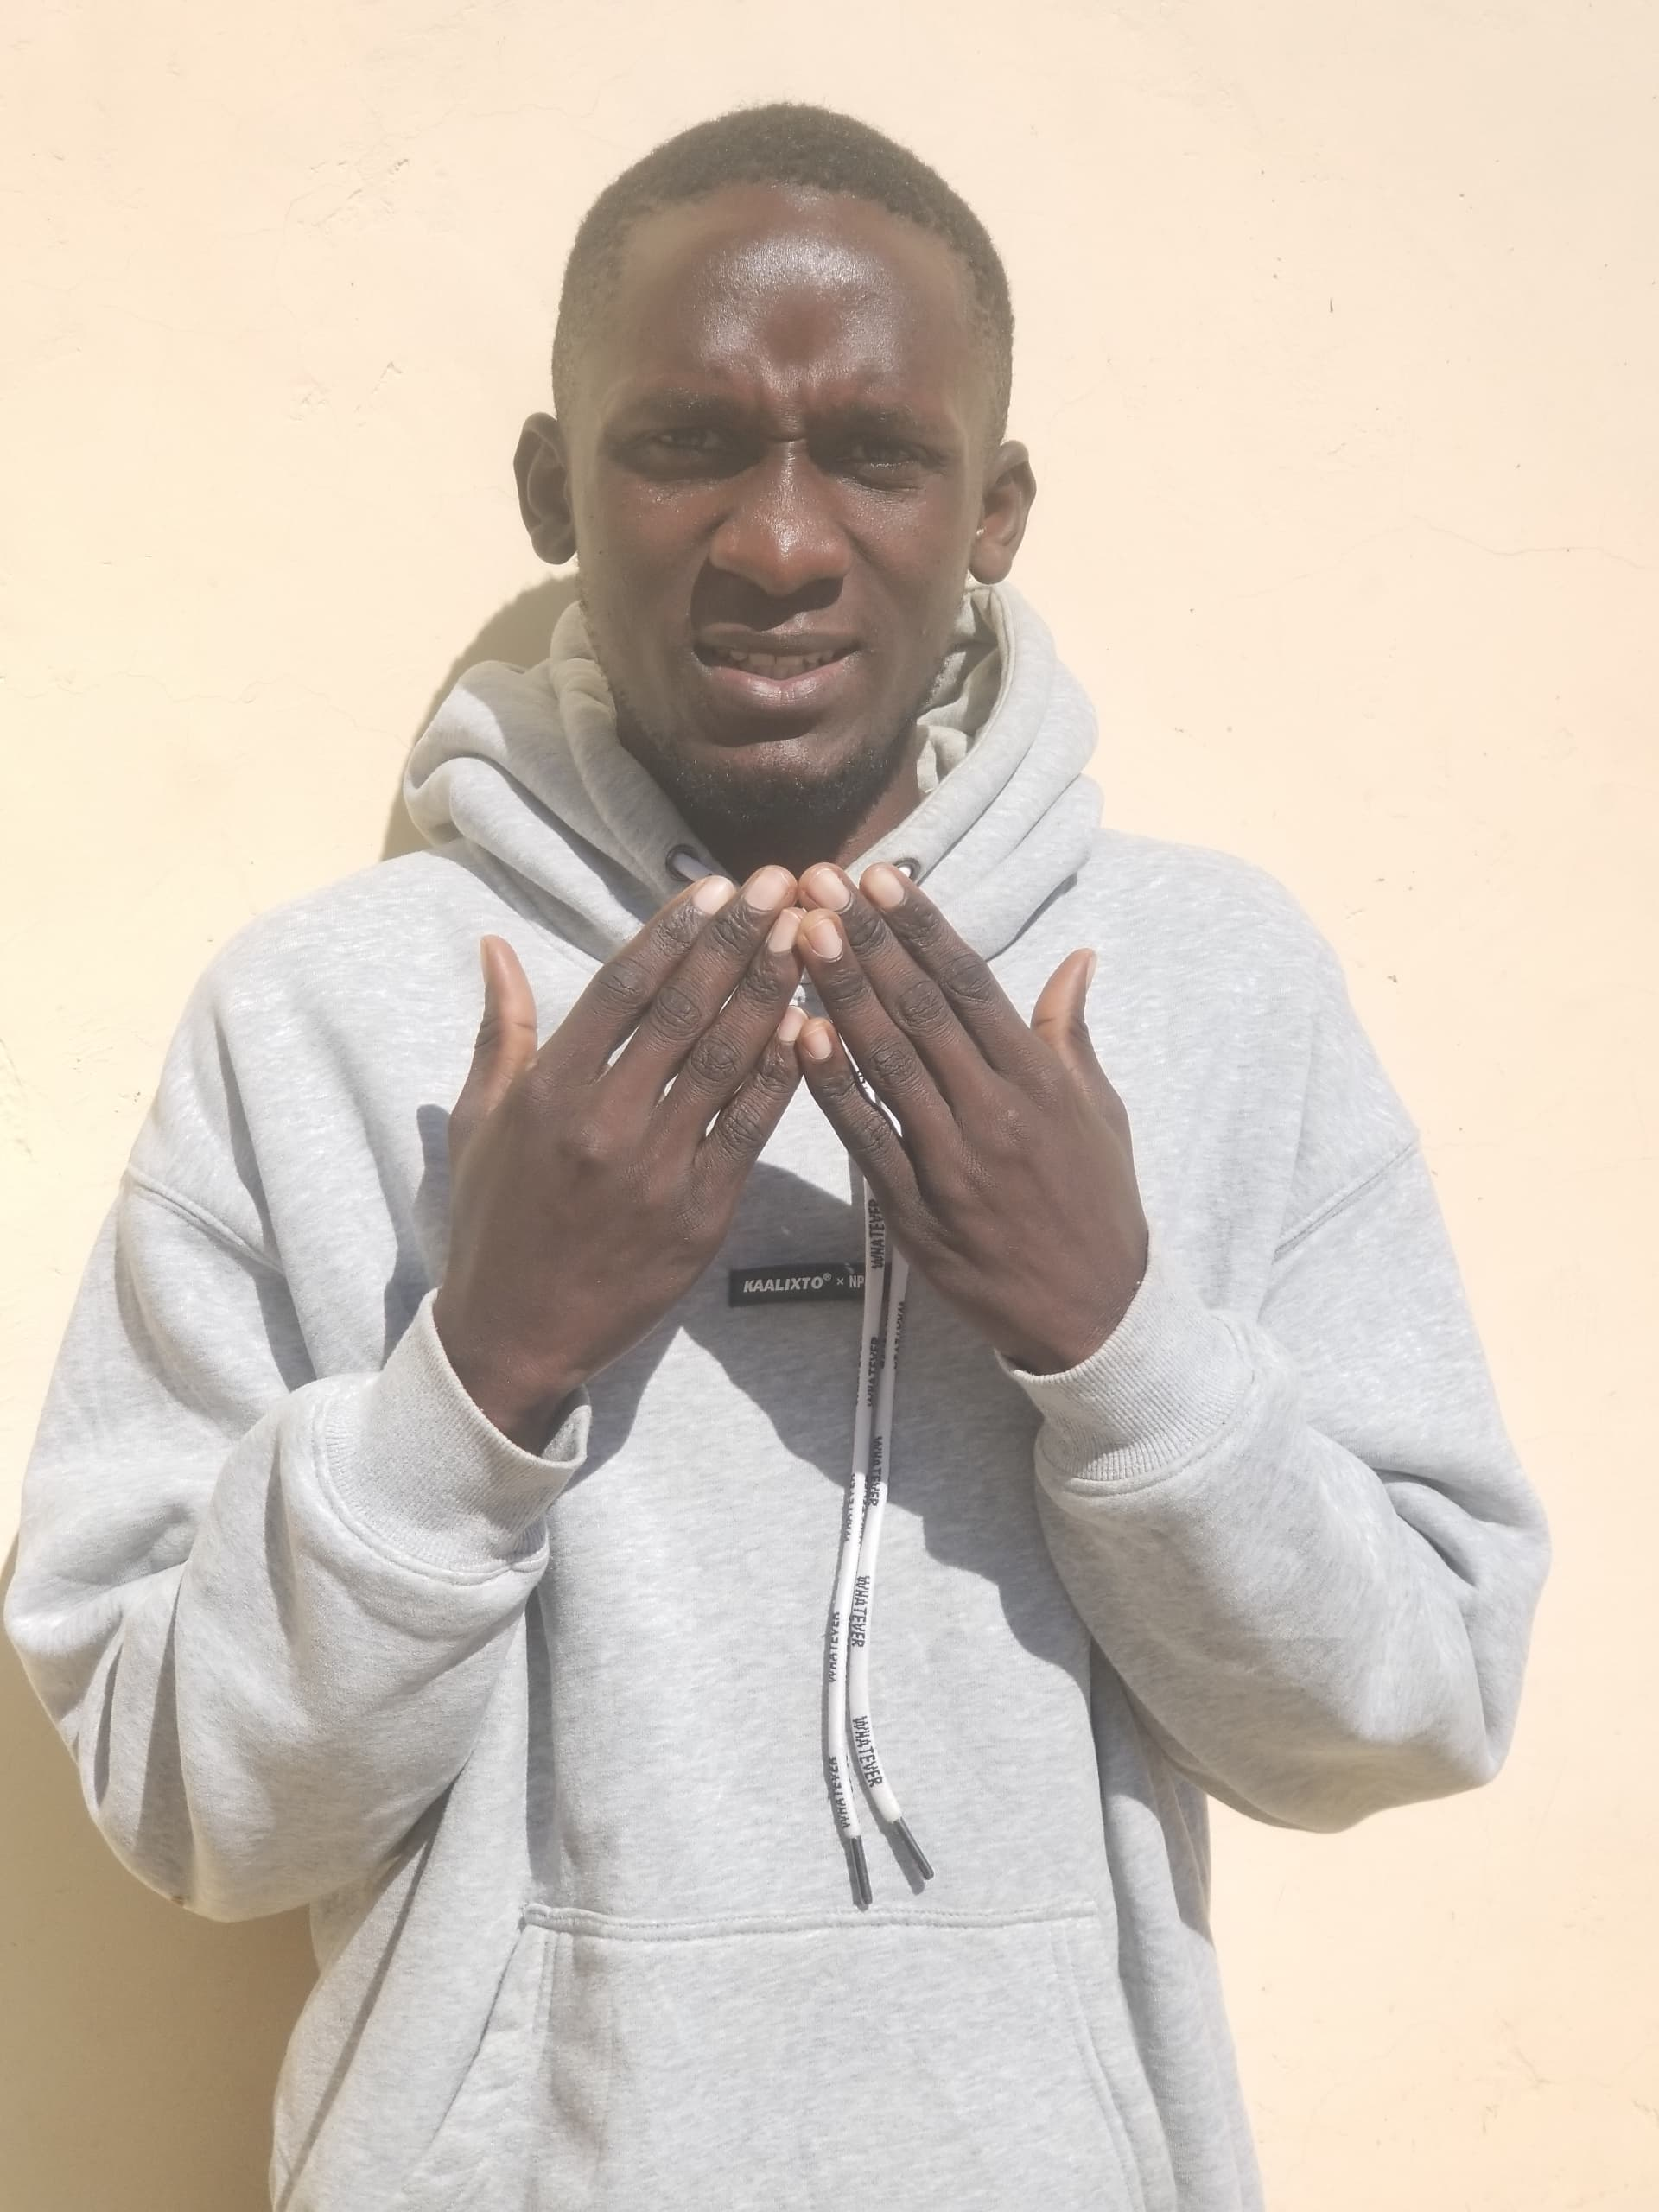thankyou: (350, 836, 1380, 1409)
